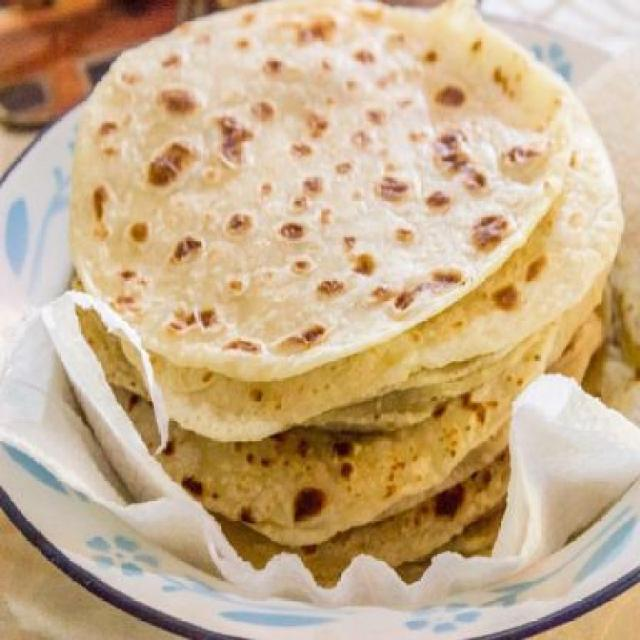chapati: (71, 0, 574, 382)
